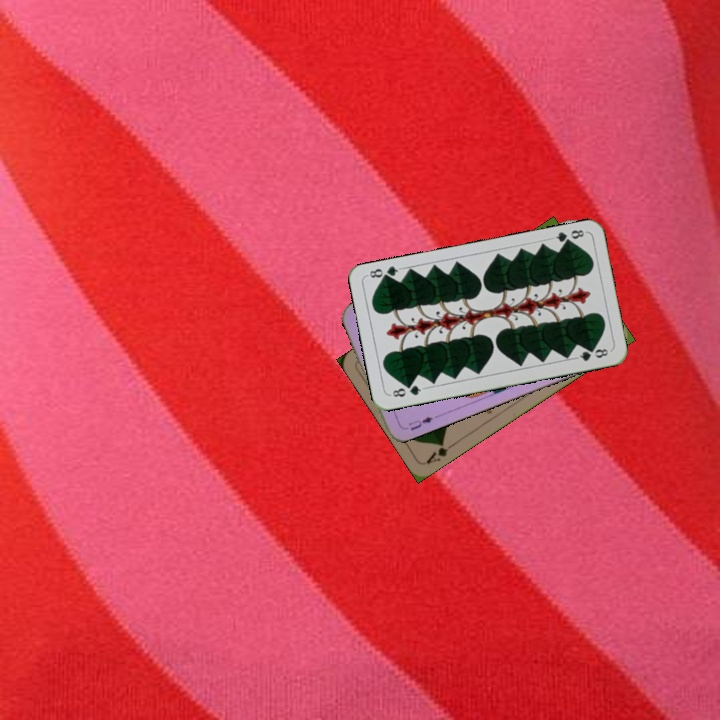EU: (405, 412, 436, 433)
G8: (548, 225, 586, 248), (386, 380, 427, 400)
GA: (422, 438, 458, 467)
